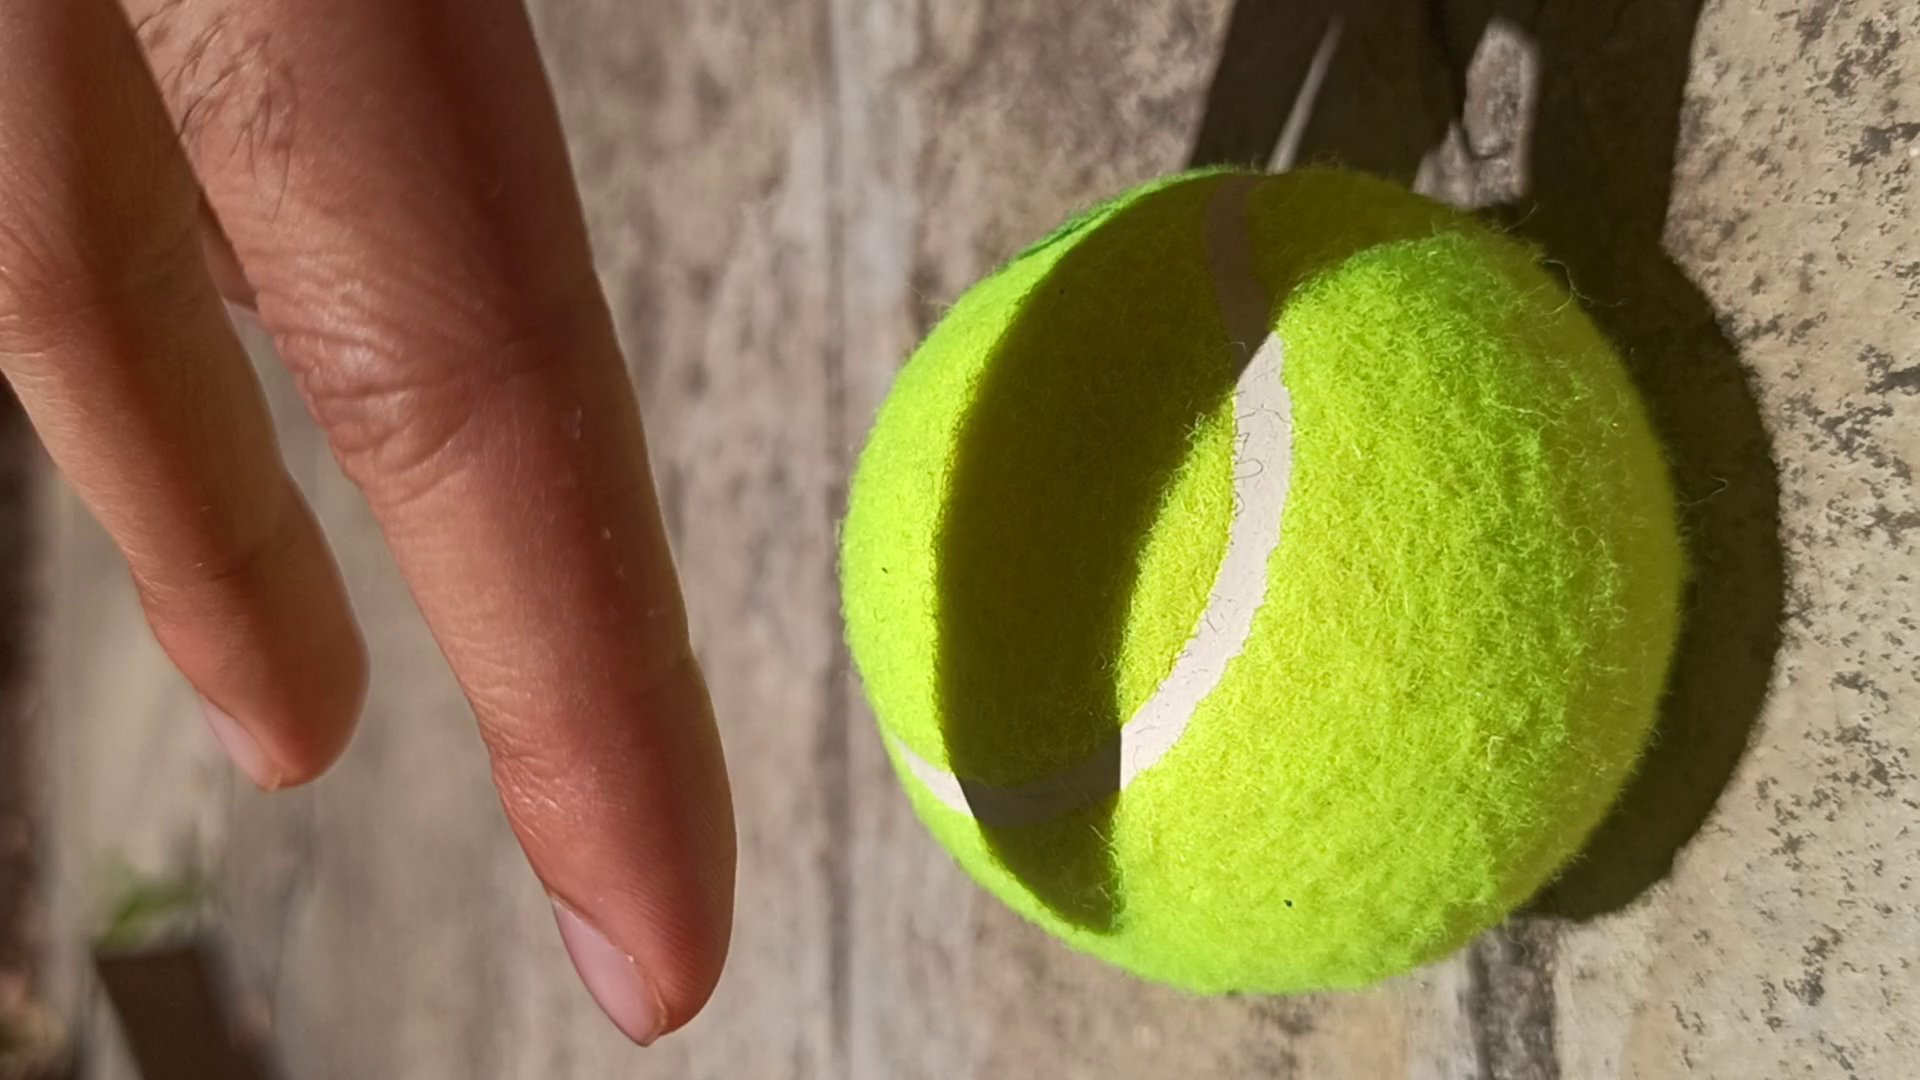Tennis-Ball: (839, 167, 1682, 988)
